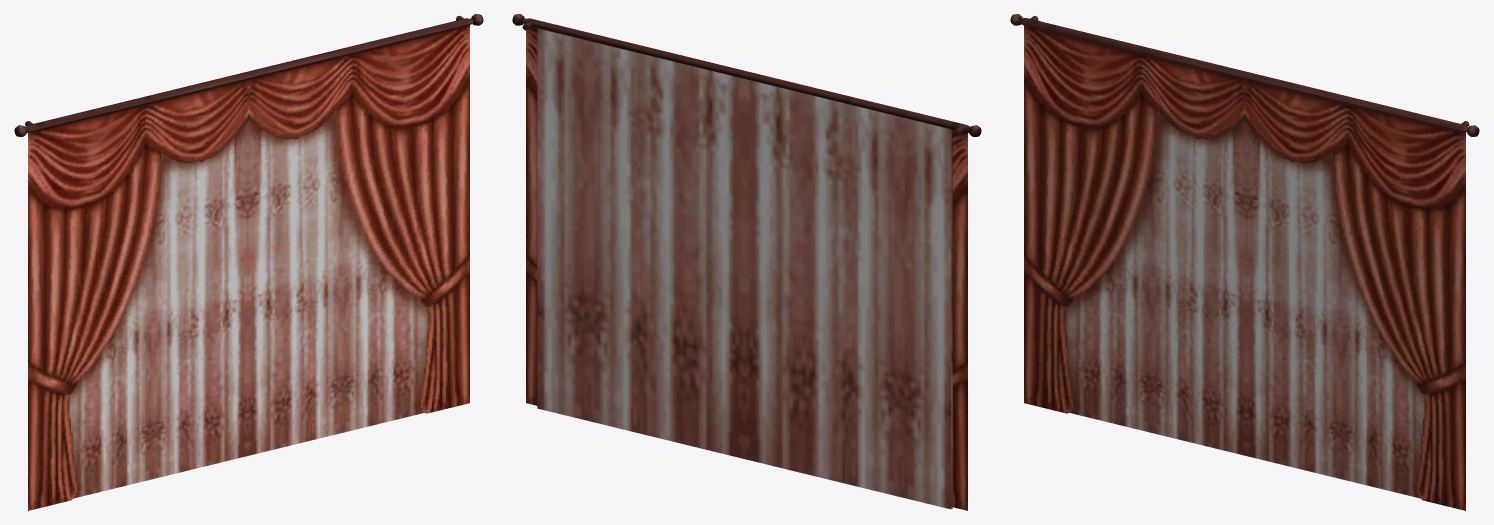
The model's file is furni_0201138_02.FBX.
3 renders of one model, left to right at view 1: azimuth 30°, elevation 25°; view 2: azimuth 150°, elevation 25°; view 3: azimuth 330°, elevation 25°, orthographic.
Parts seen in each view (by area): view 1: furni_0201138_02; view 2: furni_0201138_02; view 3: furni_0201138_02.
Boxes of the visible parts, x1,y1,x2,y2 form: furni_0201138_02: (14, 14, 483, 510); furni_0201138_02: (512, 14, 981, 510); furni_0201138_02: (1010, 14, 1479, 510).
Size of the model in its own units: 353 by 279 by 12.24.
2 materials, 2 textured.
